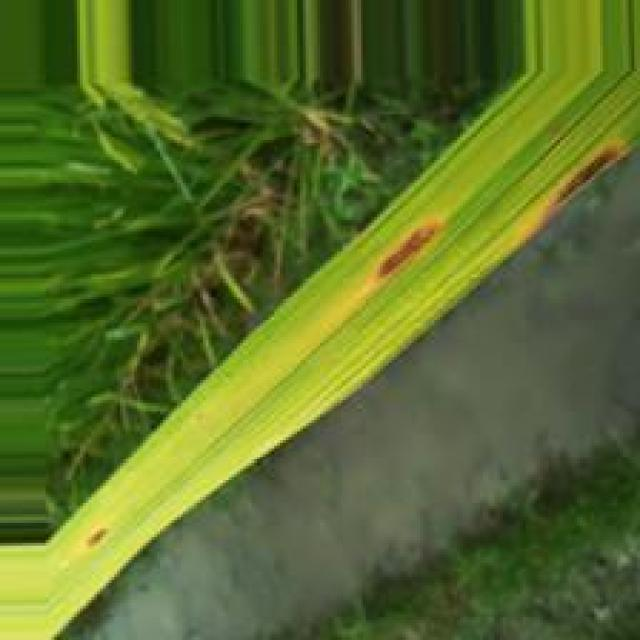Narrow_Brown_Leaf_Spot: (492, 133, 640, 272), (322, 210, 458, 326)
